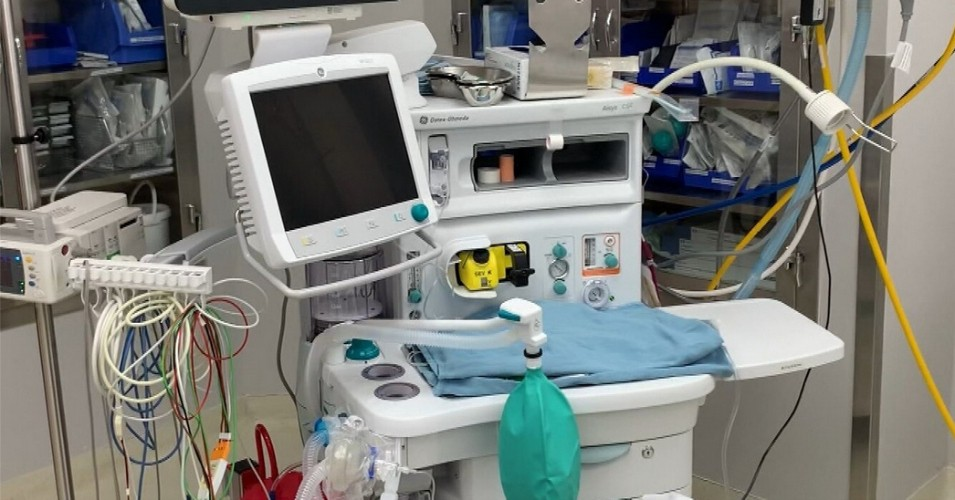bedside_monitor: (202, 52, 447, 270)
cabinet: (593, 1, 815, 326), (1, 1, 208, 300)
handle: (599, 8, 617, 50), (586, 15, 602, 53)
medical_drawer: (453, 420, 703, 500)
ventilator: (221, 50, 710, 499)
